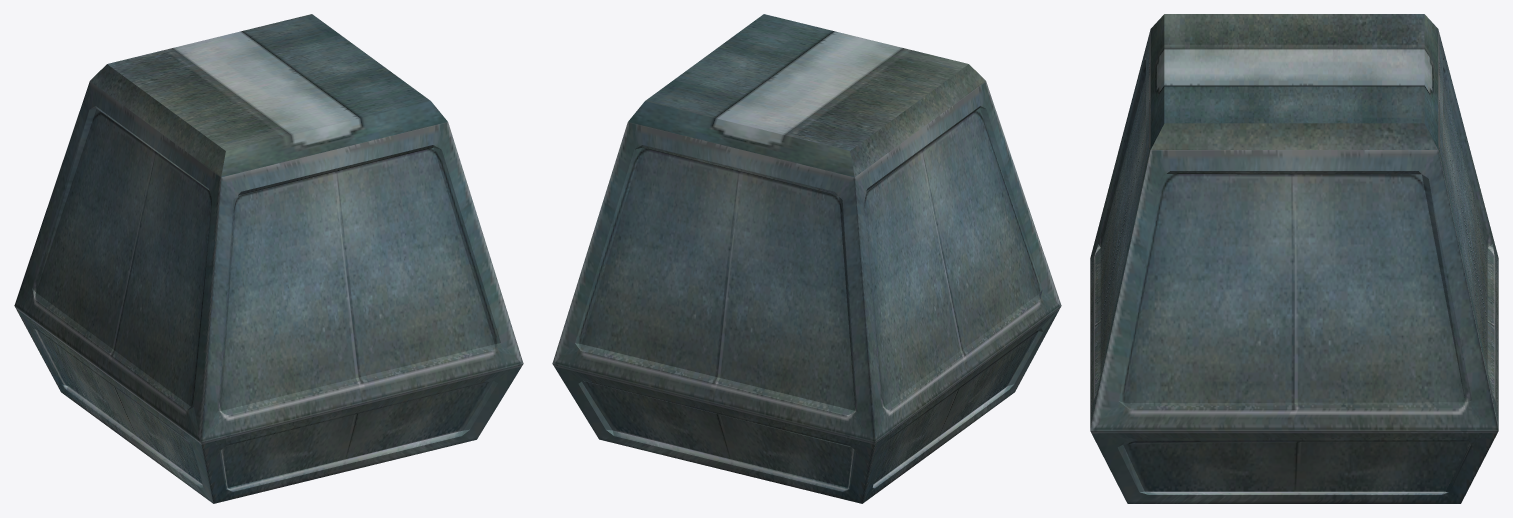
The model's file is con_gen_crate_basic_s4_l0.fbx.
The picture shows the model from 3 angles, left to right: view 1: azimuth 30°, elevation 25°; view 2: azimuth 150°, elevation 25°; view 3: azimuth 270°, elevation 25°; orthographic projection. The views are drawn at different scales.
Parts seen in each view (by area): view 1: mesh_node; view 2: mesh_node; view 3: mesh_node.
Part boxes in pixels (x1,y1,x2,y2): mesh_node: [14, 14, 523, 503]; mesh_node: [552, 14, 1061, 503]; mesh_node: [1090, 14, 1498, 503].
Bounding box in the file's own units: 0.6988 × 0.6905 × 0.7007.
1 material, 1 textured.
